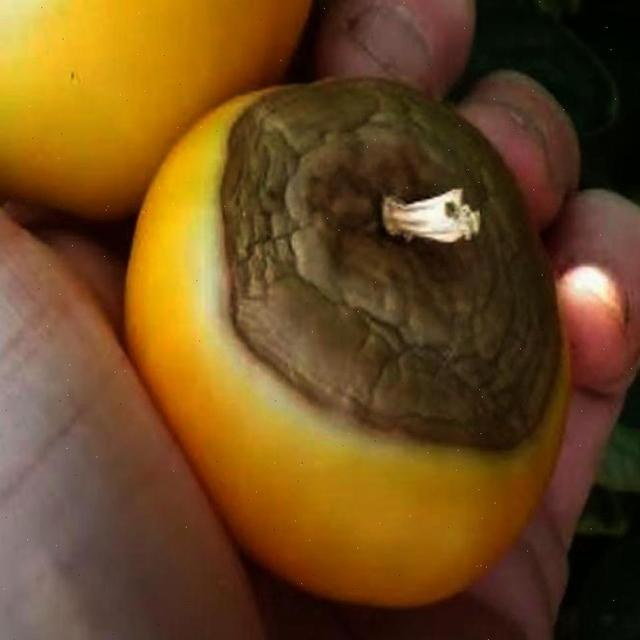Blossom End Rot Fruit: (146, 47, 376, 302)
